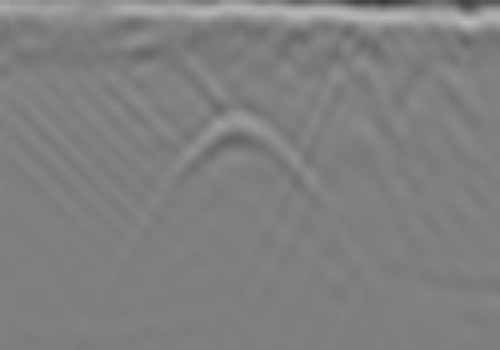hyperbola: (109, 99, 325, 296)
